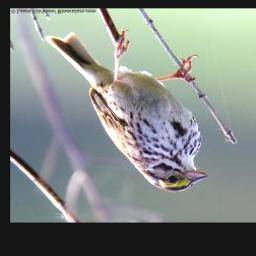Sparrow: (44, 29, 209, 193)
